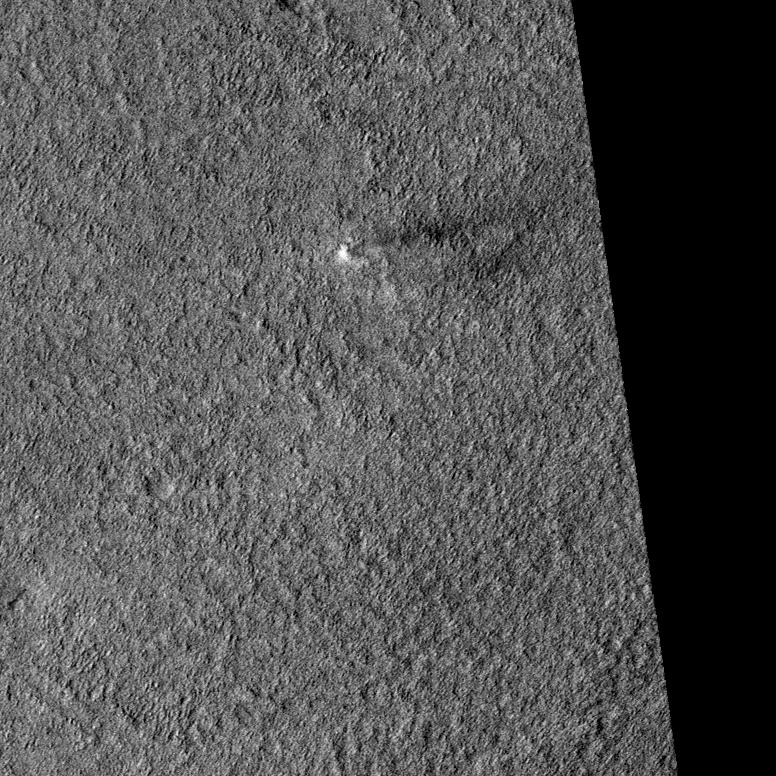dust_devil: (337, 215, 491, 262)
